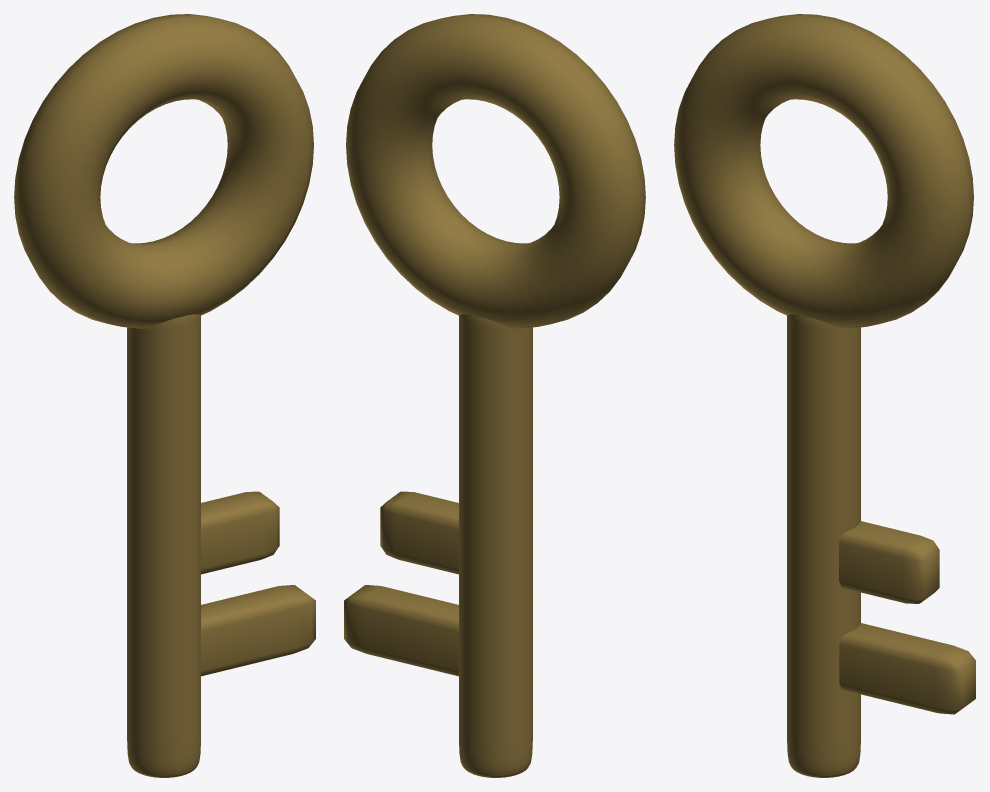
Rendered from key.fbx.
3 renders of one model, left to right at view 1: azimuth 30°, elevation 25°; view 2: azimuth 150°, elevation 25°; view 3: azimuth 330°, elevation 25°, orthographic.
Visible parts, largest first — view 1: Torus.001; view 2: Torus.001; view 3: Torus.001.
Part boxes in pixels (left/top/right/bottom): Torus.001: left=14, top=14, right=315, bottom=777; Torus.001: left=344, top=14, right=645, bottom=777; Torus.001: left=674, top=14, right=975, bottom=777.
Bounding box in the file's own units: 270 × 665 × 70.
